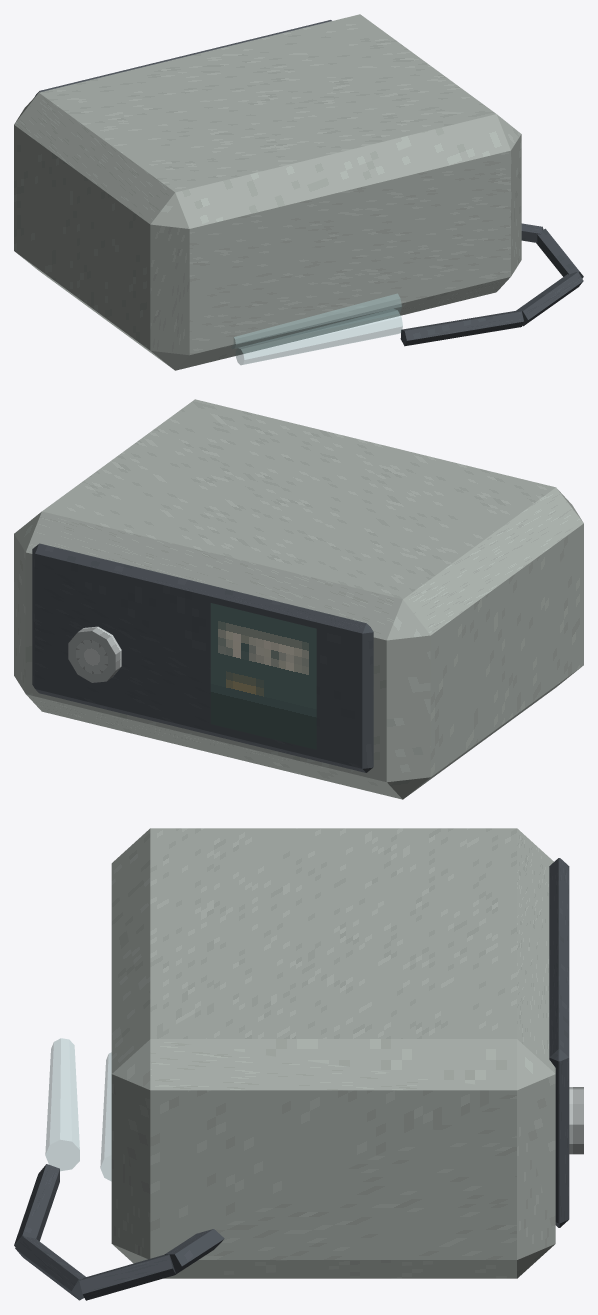
File: ph_meter.glb
The picture shows the model from 3 angles, top to bottom: view 1: azimuth 30°, elevation 25°; view 2: azimuth 150°, elevation 25°; view 3: azimuth 270°, elevation 25°; orthographic projection. The views are drawn at different scales.
Visible parts, largest first — view 1: block_instrument housing, block_glass pH probe, block_reference probe, block_probe cable 3, block_probe cable 2, block_probe cable 1, block_instrument control panel; view 2: block_instrument housing, block_instrument control panel, block_instrument readout, block_control knob; view 3: block_instrument housing, block_instrument control panel, block_glass pH probe, block_probe cable 1, block_probe cable 2, block_probe cable 3, block_probe cable 0, block_reference probe, block_control knob.
Boxes of the visible parts, x1,y1,x2,y2 form: block_instrument housing: (14,14,521,370); block_glass pH probe: (235,308,402,365); block_reference probe: (231,293,401,348); block_probe cable 3: (400,311,523,346); block_probe cable 2: (516,272,583,326); block_probe cable 1: (536,228,583,278); block_instrument control panel: (35,20,331,96); block_instrument housing: (14,399,583,799); block_instrument control panel: (32,543,373,772); block_instrument readout: (210,603,316,749); block_control knob: (68,626,121,682); block_instrument housing: (111,828,555,1278); block_instrument control panel: (549,858,569,1227); block_glass pH probe: (45,1038,79,1171); block_probe cable 1: (79,1254,175,1300); block_probe cable 2: (15,1236,85,1300); block_probe cable 3: (14,1164,59,1246); block_probe cable 0: (164,1229,224,1274); block_reference probe: (100,1052,111,1181); block_control knob: (569,1087,583,1154).
Bounding box in the file's own units: 0.2175 × 0.0907 × 0.1955.
2 materials, 2 textured.
